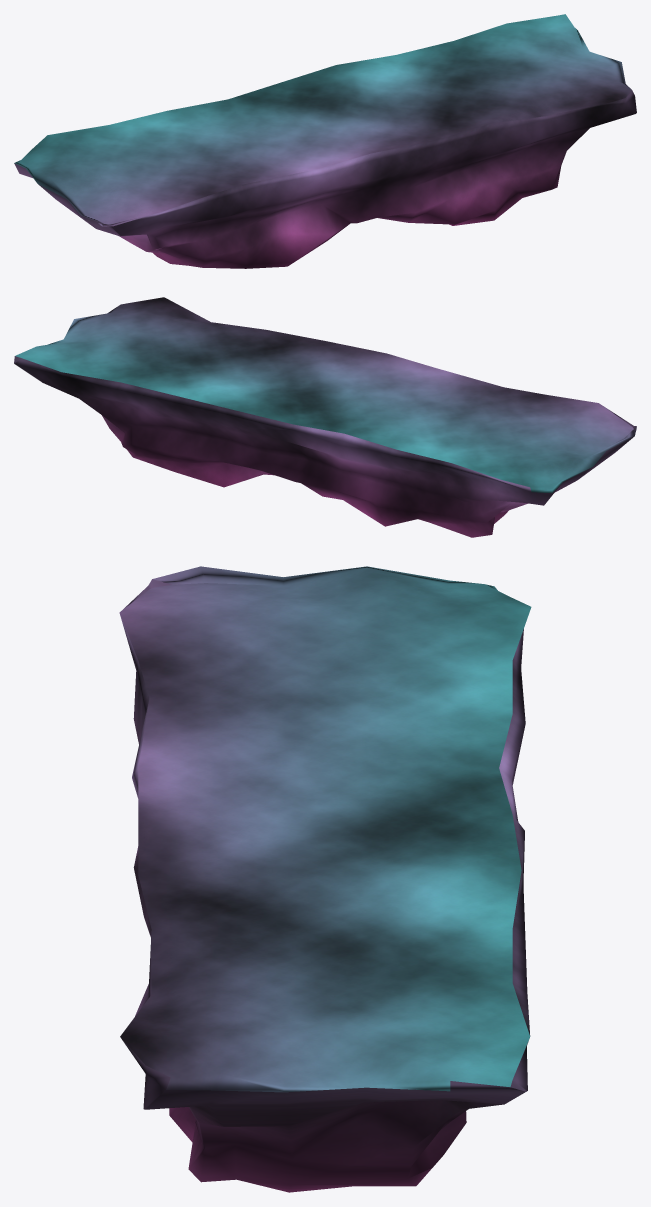
The model's file is envPlat3Long.fbx.
3 views of the same model, one above another, from view 1: azimuth 30°, elevation 25°; view 2: azimuth 150°, elevation 25°; view 3: azimuth 270°, elevation 25° (orthographic). The views are drawn at different scales.
Visible parts, largest first — view 1: envLongPlat3; view 2: envLongPlat3; view 3: envLongPlat3.
Part boxes in pixels (bbox=[...]): envLongPlat3: bbox=[14, 14, 636, 268]; envLongPlat3: bbox=[14, 297, 636, 537]; envLongPlat3: bbox=[119, 566, 531, 1192].
Bounding box in the file's own units: 42.11 × 8.33 × 13.85.
Materials: 1 (1 with a texture image).
